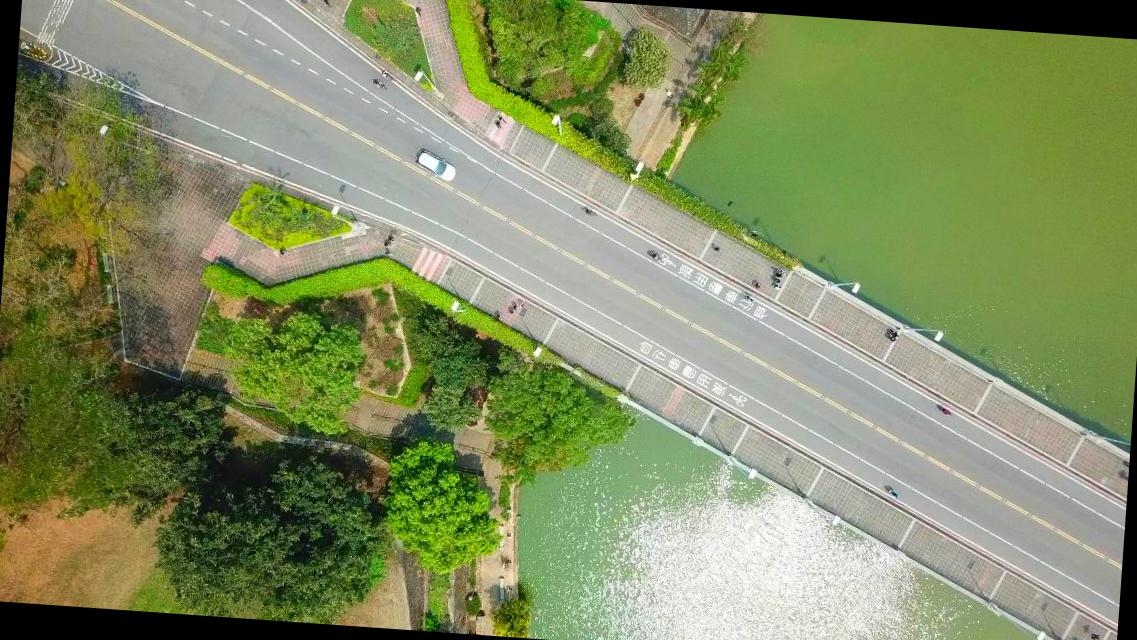vehicle: (415, 149, 456, 183)
